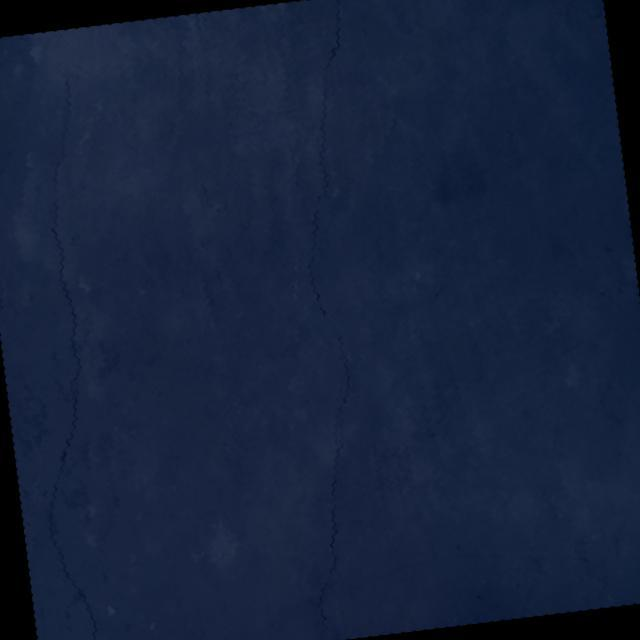crack: (243, 0, 417, 640), (0, 77, 139, 640), (0, 29, 66, 70)
